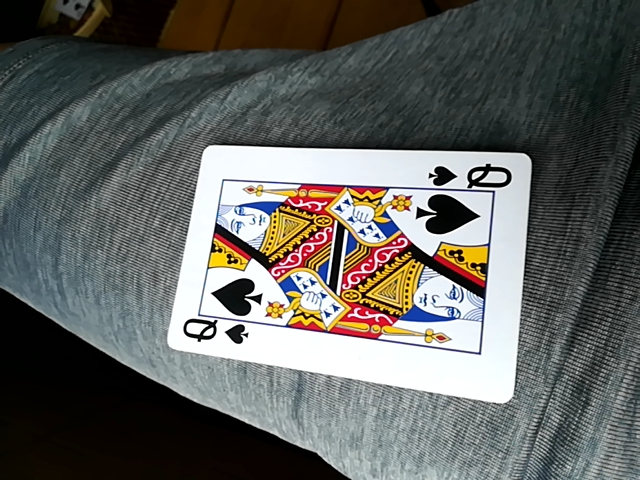ht q: (172, 142, 532, 402)
